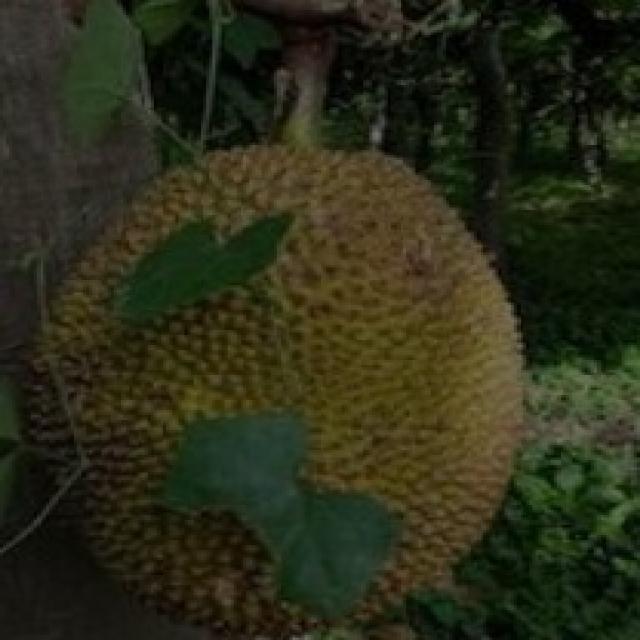Fruit: (218, 225, 576, 637), (0, 250, 360, 640)
